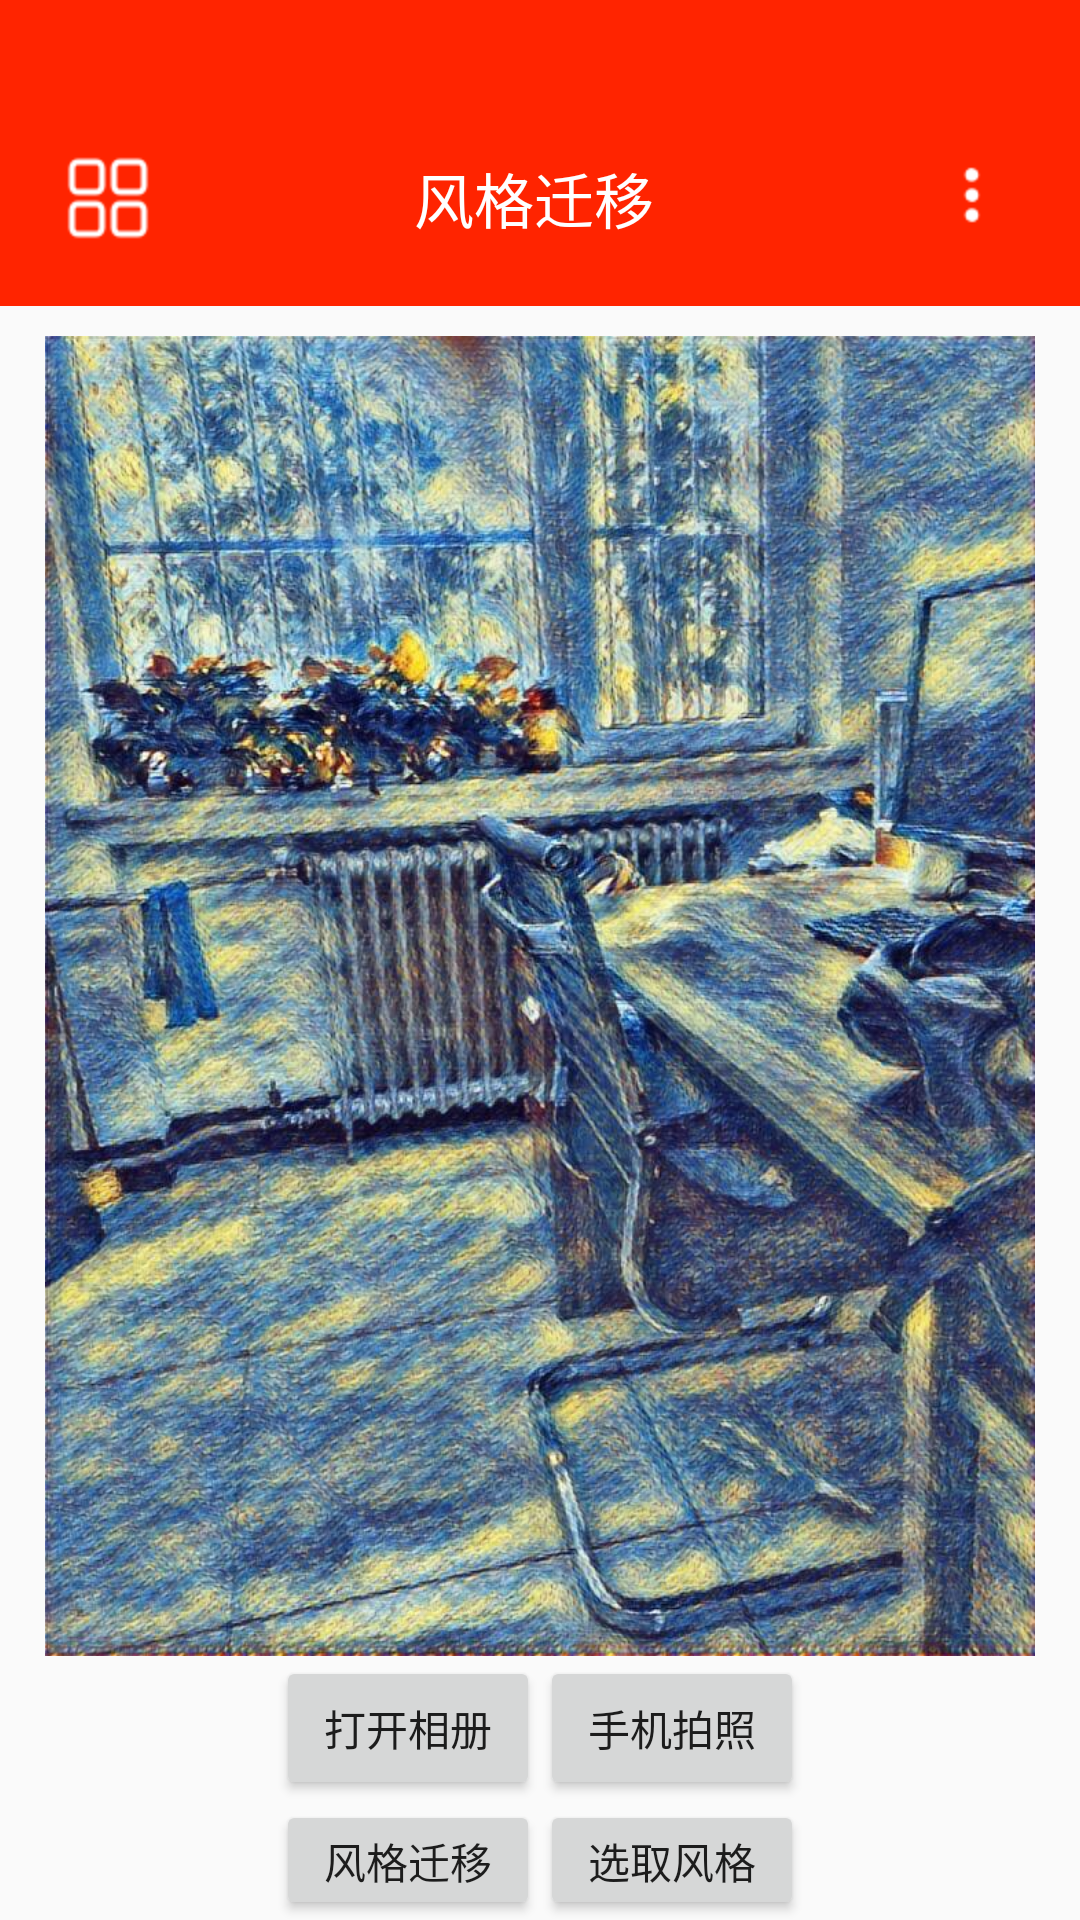

Icon click points for this 1080w x 1920h phone screenshot, format (x=x, y=y):
menu: (x=108, y=198), (x=972, y=195)
